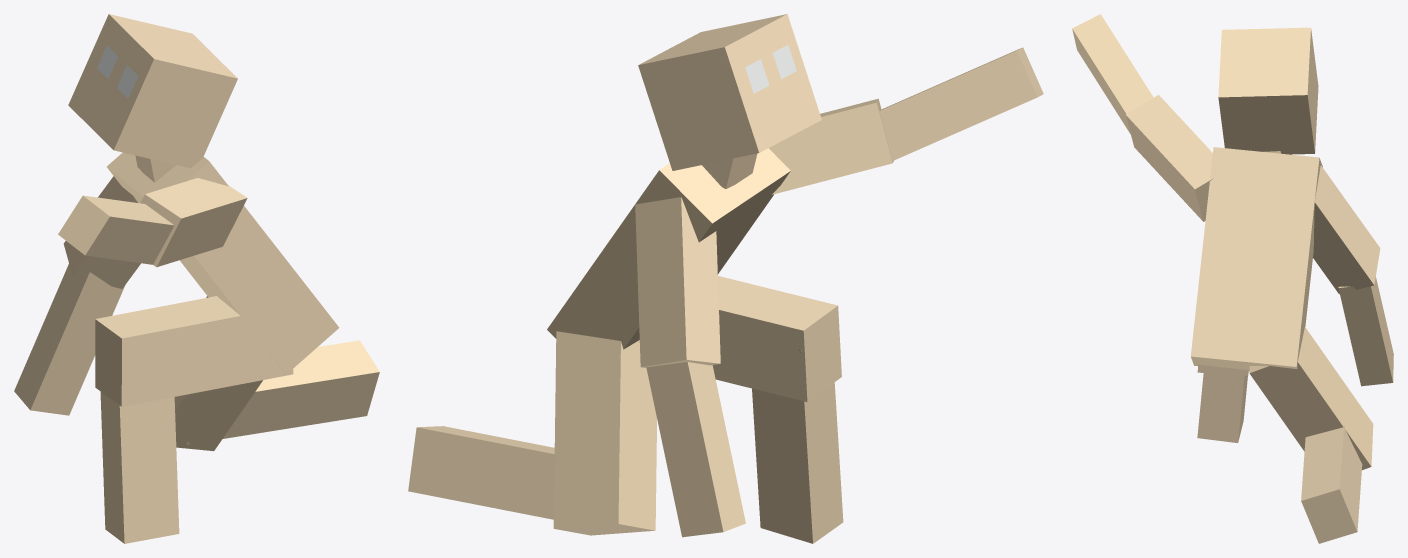
Rendered from blockmanstatue.glb.
3 views of the same model, side by side, from view 1: azimuth 30°, elevation 25°; view 2: azimuth 150°, elevation 25°; view 3: azimuth 270°, elevation 25° (orthographic). The views are drawn at different scales.
Visible parts, largest first — view 1: model.001, model.008, model, model.007, model.010, model.006, model.003, model.004, model.009, model.005, model.002; view 2: model.001, model.009, model, model.005, model.008, model.007, model.006, model.010, model.004, model.003, model.002; view 3: model, model.001, model.009, model.010, model.003, model.005, model.004, model.006, model.007.
Boxes of the visible parts, bbox=[...] form: model.001: bbox=[68, 14, 237, 168]; model.008: bbox=[95, 296, 293, 406]; model: bbox=[106, 152, 339, 374]; model.007: bbox=[100, 392, 179, 543]; model.010: bbox=[186, 340, 379, 444]; model.006: bbox=[14, 264, 124, 415]; model.003: bbox=[140, 178, 247, 267]; model.004: bbox=[58, 195, 174, 264]; model.009: bbox=[174, 296, 262, 451]; model.005: bbox=[63, 176, 140, 288]; model.002: bbox=[135, 155, 175, 182]; model.001: bbox=[638, 14, 821, 170]; model.009: bbox=[553, 331, 656, 535]; model: bbox=[547, 148, 790, 349]; model.005: bbox=[635, 197, 720, 367]; model.008: bbox=[712, 276, 841, 402]; model.007: bbox=[752, 348, 843, 543]; model.006: bbox=[646, 362, 745, 537]; model.010: bbox=[408, 426, 597, 527]; model.004: bbox=[879, 47, 1043, 160]; model.003: bbox=[769, 98, 893, 194]; model.002: bbox=[702, 153, 757, 188]; model: bbox=[1190, 147, 1322, 371]; model.001: bbox=[1218, 27, 1318, 154]; model.009: bbox=[1249, 327, 1373, 470]; model.010: bbox=[1301, 425, 1362, 543]; model.003: bbox=[1125, 94, 1213, 221]; model.005: bbox=[1313, 165, 1380, 294]; model.004: bbox=[1072, 14, 1153, 134]; model.006: bbox=[1338, 276, 1393, 386]; model.007: bbox=[1197, 373, 1247, 442].
Bounding box in the file's own units: 7.9 × 8.22 × 5.82.
